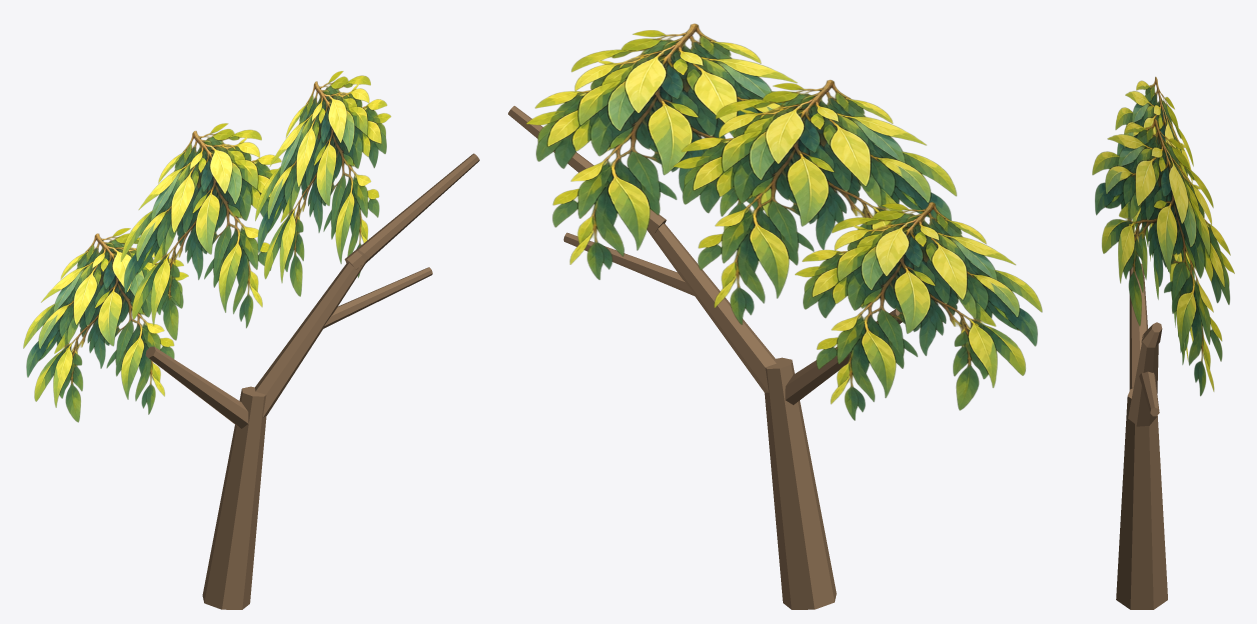
Rendered from TREE_COASTAL_WIND_001@2.0.0_LOD_MAP.glb.
The picture shows the model from 3 angles, left to right: view 1: azimuth 30°, elevation 25°; view 2: azimuth 150°, elevation 25°; view 3: azimuth 270°, elevation 25°; orthographic projection. The views are drawn at different scales.
Visible parts, largest first — view 1: GG_TREE_COASTAL_WIND_001_CARD_01, GG_TREE_COASTAL_WIND_001_CARD_02, GG_TREE_COASTAL_WIND_001_CARD_00, GG_TREE_COASTAL_WIND_001_LOCKED_STRUCTURE_00, GG_TREE_COASTAL_WIND_001_LOCKED_STRUCTURE_01, GG_TREE_COASTAL_WIND_001_LOCKED_STRUCTURE_02, GG_TREE_COASTAL_WIND_001_LOCKED_STRUCTURE_03, GG_TREE_COASTAL_WIND_001_LOCKED_STRUCTURE_04; view 2: GG_TREE_COASTAL_WIND_001_CARD_01, GG_TREE_COASTAL_WIND_001_CARD_02, GG_TREE_COASTAL_WIND_001_CARD_00, GG_TREE_COASTAL_WIND_001_LOCKED_STRUCTURE_00, GG_TREE_COASTAL_WIND_001_LOCKED_STRUCTURE_01, GG_TREE_COASTAL_WIND_001_LOCKED_STRUCTURE_03, GG_TREE_COASTAL_WIND_001_LOCKED_STRUCTURE_04, GG_TREE_COASTAL_WIND_001_LOCKED_STRUCTURE_02; view 3: GG_TREE_COASTAL_WIND_001_CARD_02, GG_TREE_COASTAL_WIND_001_LOCKED_STRUCTURE_00, GG_TREE_COASTAL_WIND_001_CARD_01, GG_TREE_COASTAL_WIND_001_LOCKED_STRUCTURE_01, GG_TREE_COASTAL_WIND_001_LOCKED_STRUCTURE_03, GG_TREE_COASTAL_WIND_001_LOCKED_STRUCTURE_04, GG_TREE_COASTAL_WIND_001_LOCKED_STRUCTURE_02, GG_TREE_COASTAL_WIND_001_CARD_00.
Part boxes in pixels (box(x1,y1,x2,y2)): GG_TREE_COASTAL_WIND_001_CARD_01: box(121, 123, 281, 340); GG_TREE_COASTAL_WIND_001_CARD_02: box(255, 71, 390, 296); GG_TREE_COASTAL_WIND_001_CARD_00: box(23, 228, 188, 422); GG_TREE_COASTAL_WIND_001_LOCKED_STRUCTURE_00: box(202, 386, 266, 609); GG_TREE_COASTAL_WIND_001_LOCKED_STRUCTURE_01: box(255, 249, 368, 417); GG_TREE_COASTAL_WIND_001_LOCKED_STRUCTURE_02: box(344, 153, 479, 269); GG_TREE_COASTAL_WIND_001_LOCKED_STRUCTURE_03: box(145, 346, 248, 428); GG_TREE_COASTAL_WIND_001_LOCKED_STRUCTURE_04: box(323, 267, 432, 328); GG_TREE_COASTAL_WIND_001_CARD_01: box(673, 80, 956, 324); GG_TREE_COASTAL_WIND_001_CARD_02: box(526, 23, 797, 279); GG_TREE_COASTAL_WIND_001_CARD_00: box(795, 202, 1042, 420); GG_TREE_COASTAL_WIND_001_LOCKED_STRUCTURE_00: box(764, 357, 836, 609); GG_TREE_COASTAL_WIND_001_LOCKED_STRUCTURE_01: box(647, 210, 776, 392); GG_TREE_COASTAL_WIND_001_LOCKED_STRUCTURE_03: box(785, 309, 901, 404); GG_TREE_COASTAL_WIND_001_LOCKED_STRUCTURE_04: box(563, 232, 694, 295); GG_TREE_COASTAL_WIND_001_LOCKED_STRUCTURE_02: box(508, 106, 666, 233); GG_TREE_COASTAL_WIND_001_CARD_02: box(1092, 118, 1234, 396); GG_TREE_COASTAL_WIND_001_LOCKED_STRUCTURE_00: box(1116, 388, 1167, 609); GG_TREE_COASTAL_WIND_001_CARD_01: box(1115, 76, 1204, 350); GG_TREE_COASTAL_WIND_001_LOCKED_STRUCTURE_01: box(1128, 332, 1158, 426); GG_TREE_COASTAL_WIND_001_LOCKED_STRUCTURE_03: box(1129, 263, 1147, 390); GG_TREE_COASTAL_WIND_001_LOCKED_STRUCTURE_04: box(1139, 371, 1159, 416); GG_TREE_COASTAL_WIND_001_LOCKED_STRUCTURE_02: box(1141, 322, 1162, 347); GG_TREE_COASTAL_WIND_001_CARD_00: box(1143, 223, 1194, 364).
Bounding box in the file's own units: 39.49 × 40 × 10.6.
Materials: 2 (1 with a texture image).
